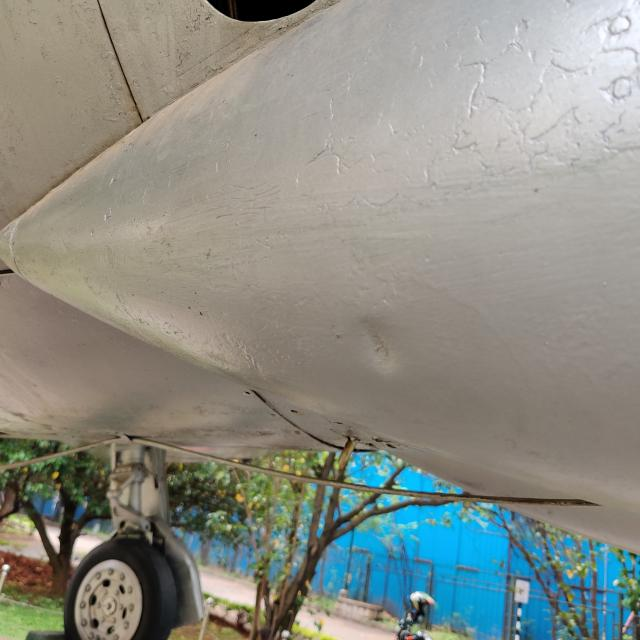dent: (335, 299, 424, 388)
